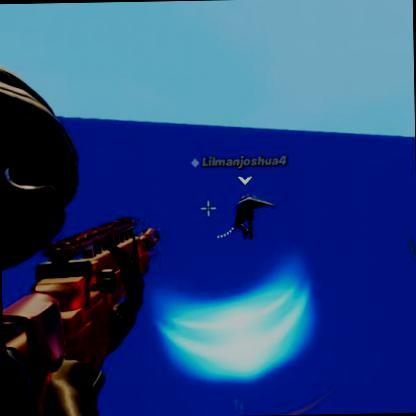person: (233, 192, 259, 238)
